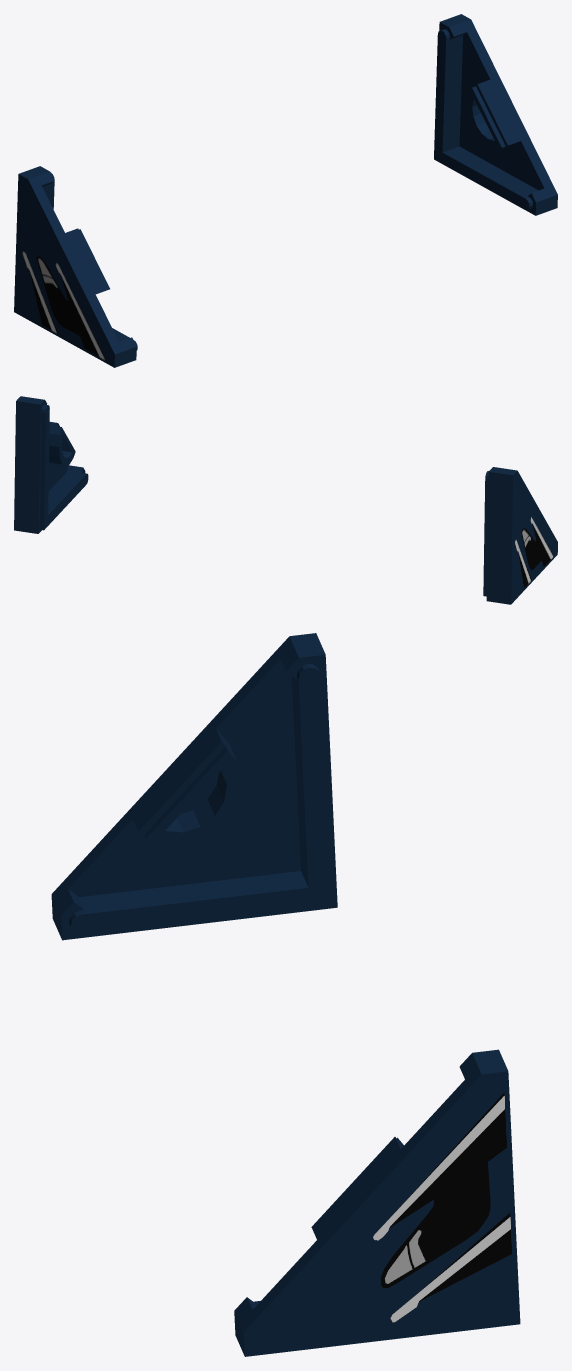
The model's file is FordFiestaExportIssue.dae.
3 views of the same model, one above another, from view 1: azimuth 30°, elevation 25°; view 2: azimuth 150°, elevation 25°; view 3: azimuth 270°, elevation 25° (orthographic). The views are drawn at different scales.
Visible parts, largest first — view 1: Part.1, Part.0; view 2: Part.0, Part.1; view 3: Part.0, Part.1.
Part boxes in pixels (bbox=[...]): Part.1: bbox=[434, 14, 557, 215]; Part.0: bbox=[14, 166, 137, 367]; Part.0: bbox=[483, 467, 557, 604]; Part.1: bbox=[14, 396, 88, 533]; Part.0: bbox=[51, 633, 337, 940]; Part.1: bbox=[234, 1049, 520, 1356].
Bounding box in the file's own units: 56.09 × 15.08 × 24.17.
Materials: 1 (1 with a texture image).
